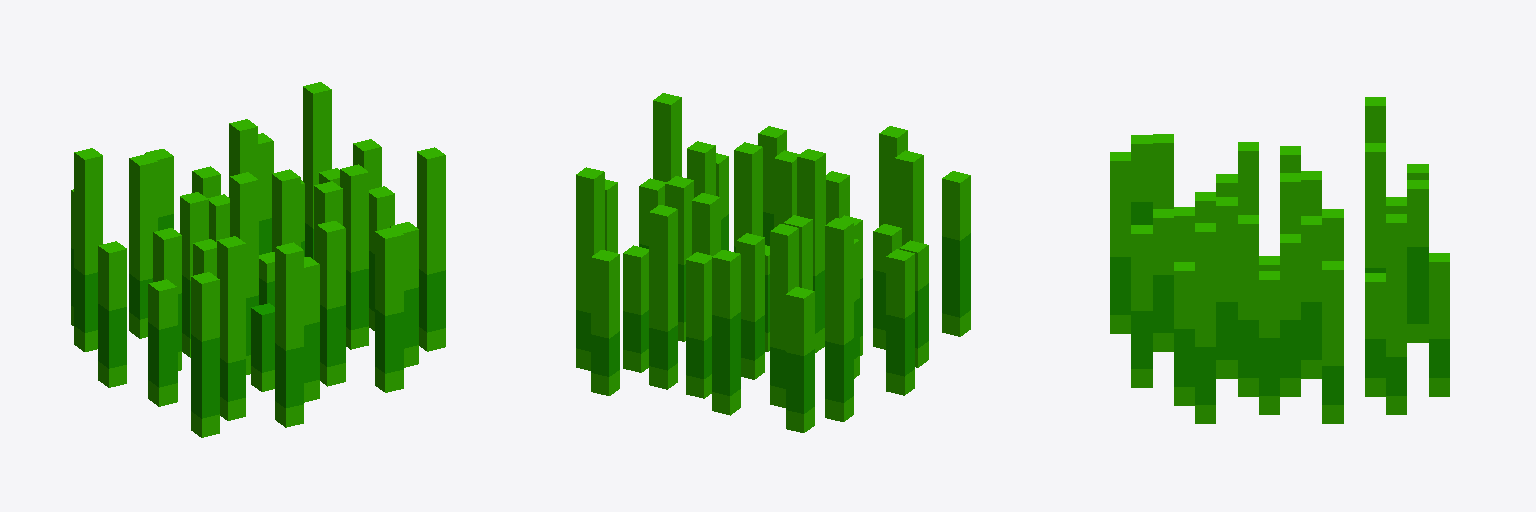
3 renders of one model, left to right at view 1: azimuth 30°, elevation 25°; view 2: azimuth 150°, elevation 25°; view 3: azimuth 270°, elevation 25°, orthographic.
Parts seen in each view (by area): view 1: object 1; view 2: object 1; view 3: object 1.
Part boxes in pixels (left/top/right/bottom): object 1: left=71, top=82, right=445, bottom=437; object 1: left=576, top=93, right=970, bottom=432; object 1: left=1110, top=97, right=1449, bottom=423.
Size of the model in its own units: 1.6 by 1 by 1.6.
Materials: 1 (1 with a texture image).